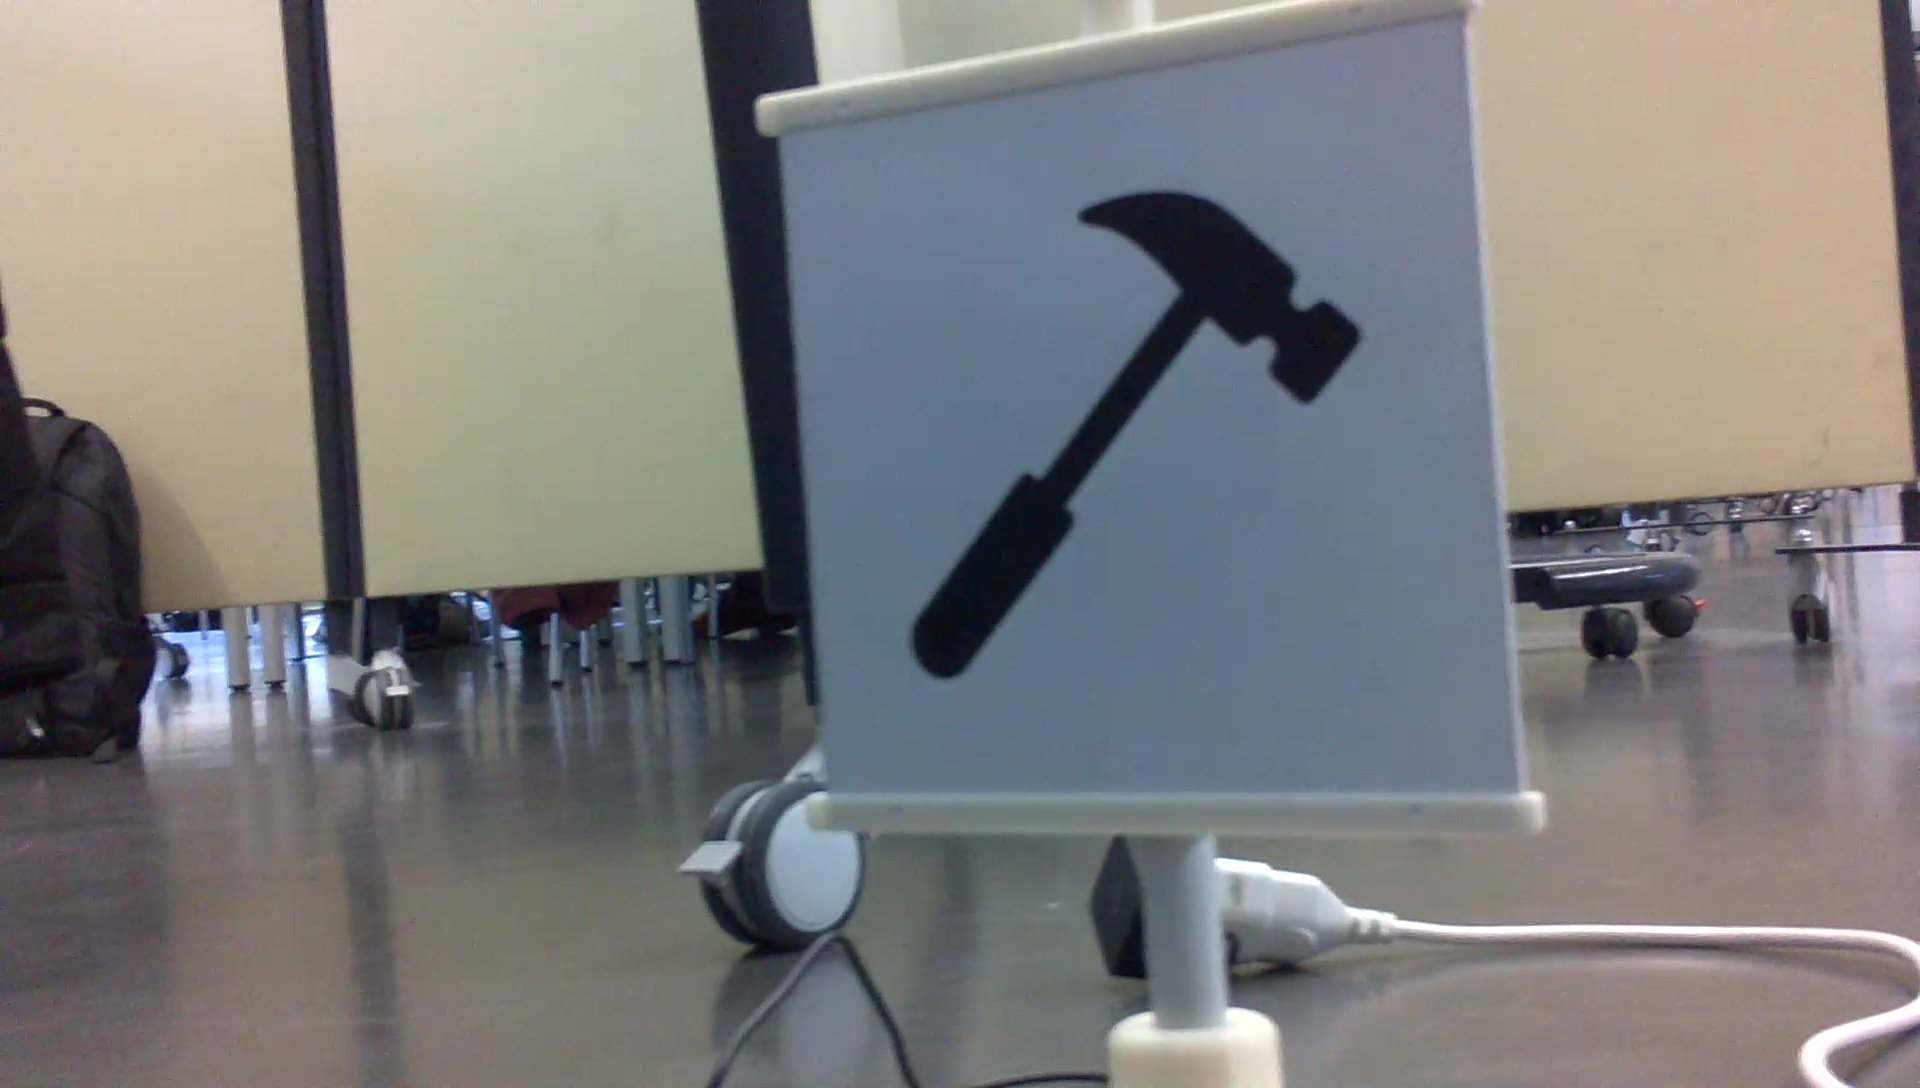hammer: (895, 181, 1367, 692)
